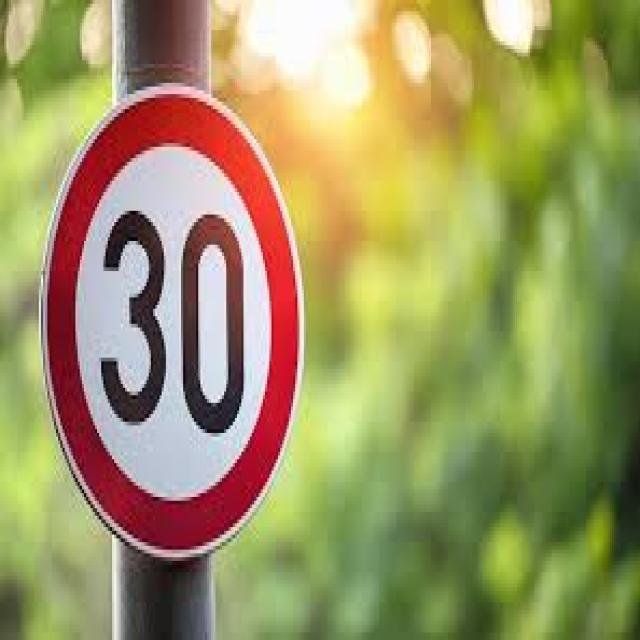Speed limit 30: (38, 80, 307, 562)
